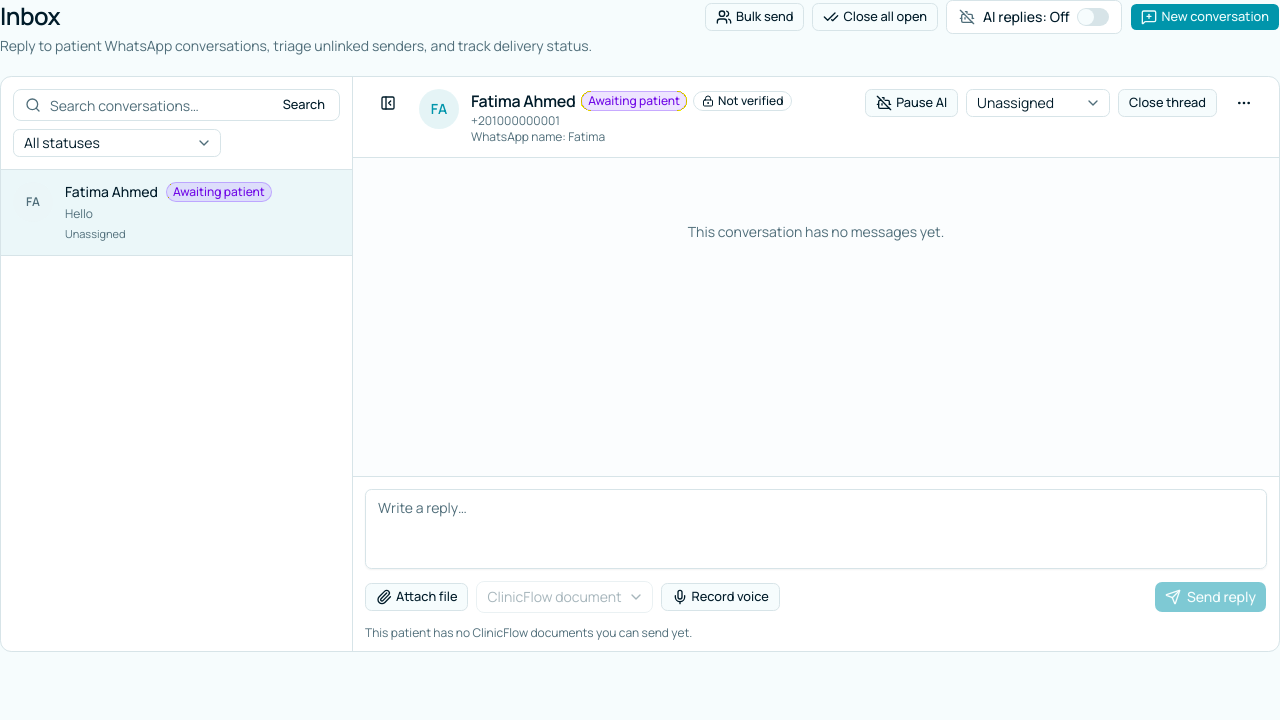
Test: closing all open conversations › never closes anything without a confirmation
Click the button with test id "bulk-close-trigger" at (875, 17), box [812,3,938,31]
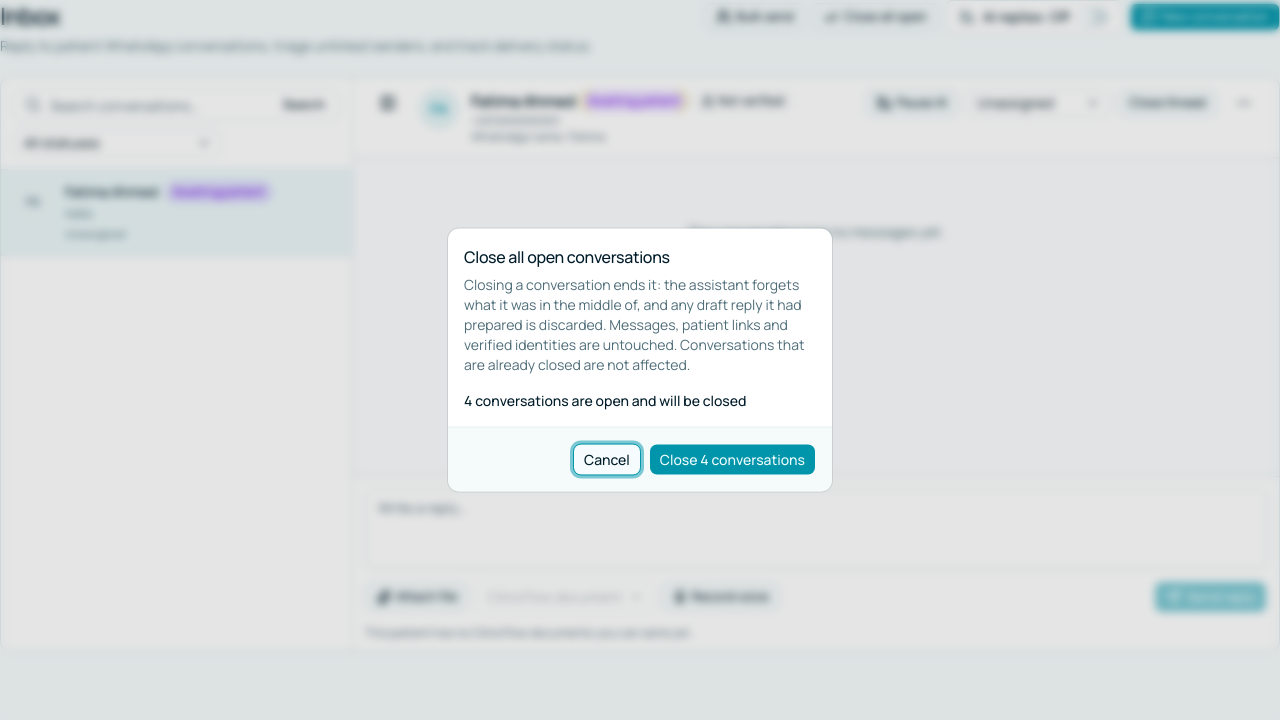
Result: the button with test id "bulk-close-confirm" is shown at [649,444,816,476]
